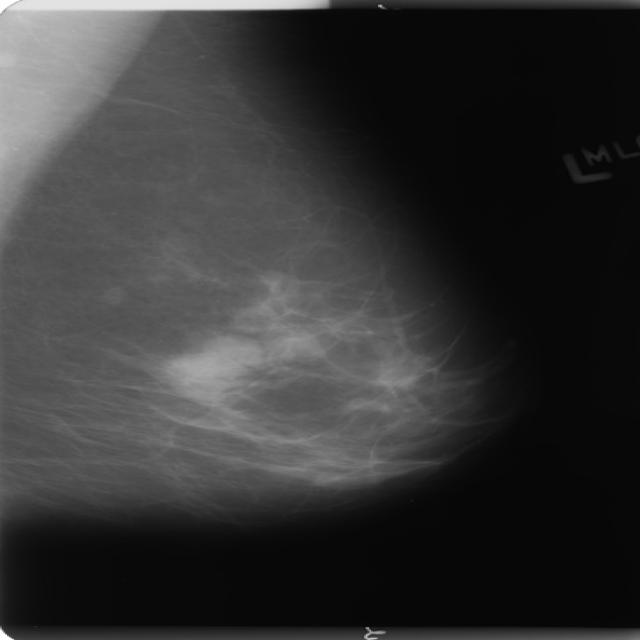tumour: (162, 334, 262, 388)
